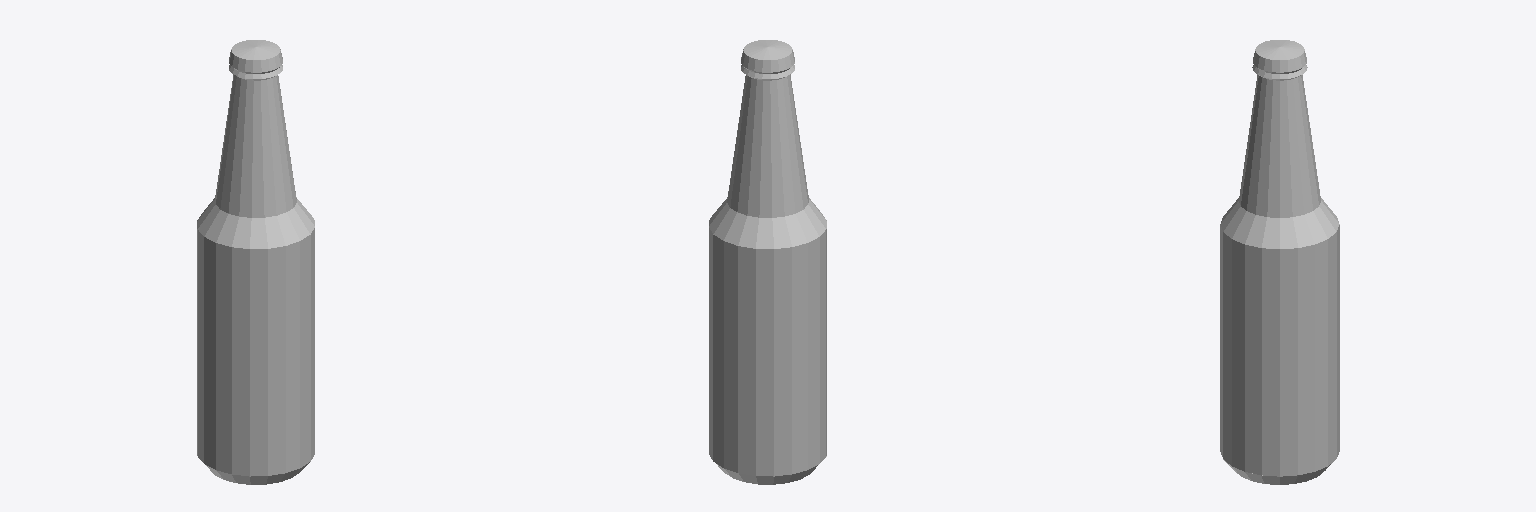
Rendered from bottle.obj.
3 views of the same model, side by side, from view 1: azimuth 30°, elevation 25°; view 2: azimuth 150°, elevation 25°; view 3: azimuth 270°, elevation 25° (orthographic).
Visible parts, largest first — view 1: pCylinder1; view 2: pCylinder1; view 3: pCylinder1.
Boxes of the visible parts, x1,y1,x2,y2 form: pCylinder1: [197, 40, 314, 484]; pCylinder1: [709, 40, 826, 484]; pCylinder1: [1220, 40, 1339, 484].
Bounding box in the file's own units: 2.01 × 7.75 × 2.01.